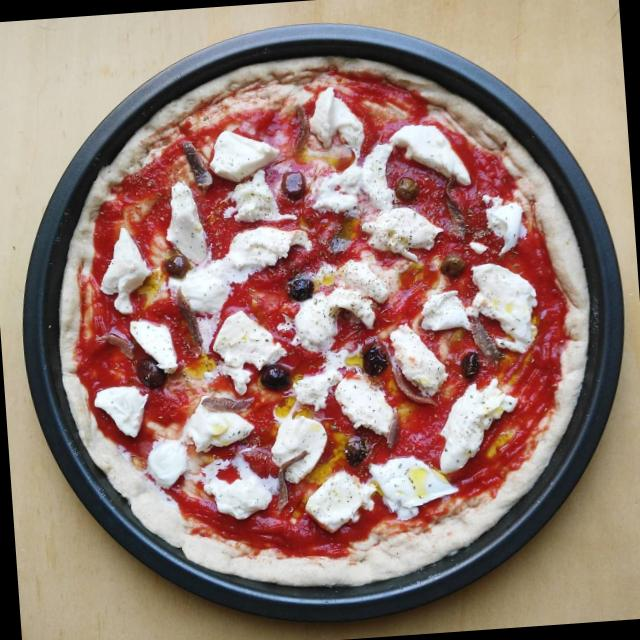black_olives: (136, 351, 176, 395), (362, 334, 396, 376), (276, 163, 310, 202), (258, 361, 296, 394), (456, 347, 486, 387), (338, 432, 369, 470), (283, 270, 315, 301)
pizza: (49, 57, 588, 589)
